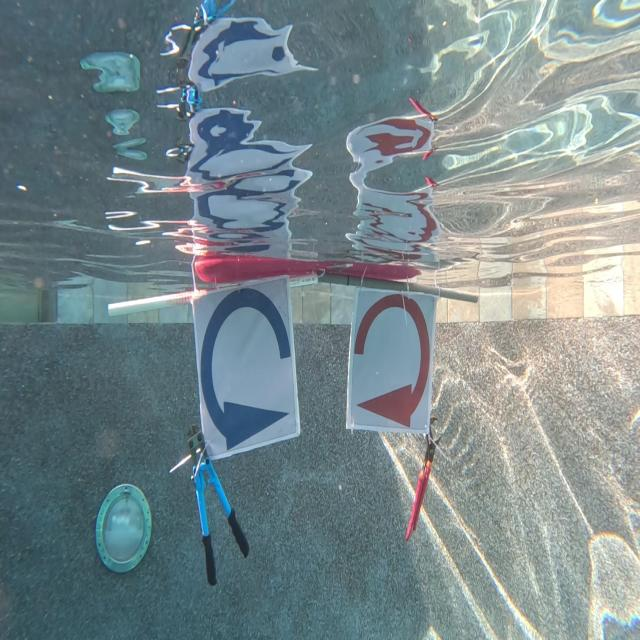blue_side: (184, 274, 303, 456)
red_side: (348, 277, 430, 439)
